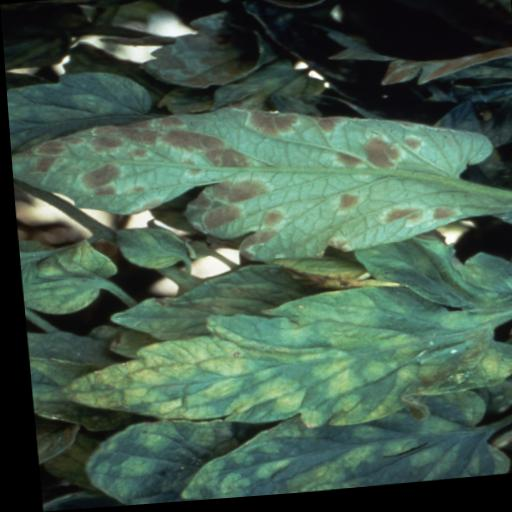Leaf Mold: (7, 90, 498, 284), (45, 281, 512, 453), (167, 412, 504, 504), (14, 231, 117, 322)
